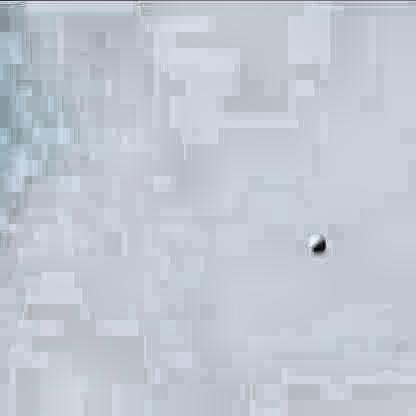golfball: (305, 229, 323, 251)
